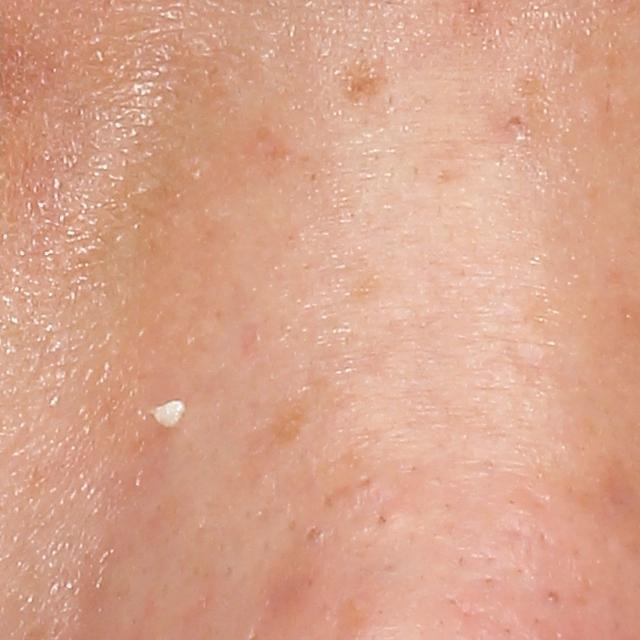comedo: (302, 523, 339, 551)
melasma: (266, 378, 337, 448), (327, 48, 387, 107)
other: (143, 393, 187, 432)
